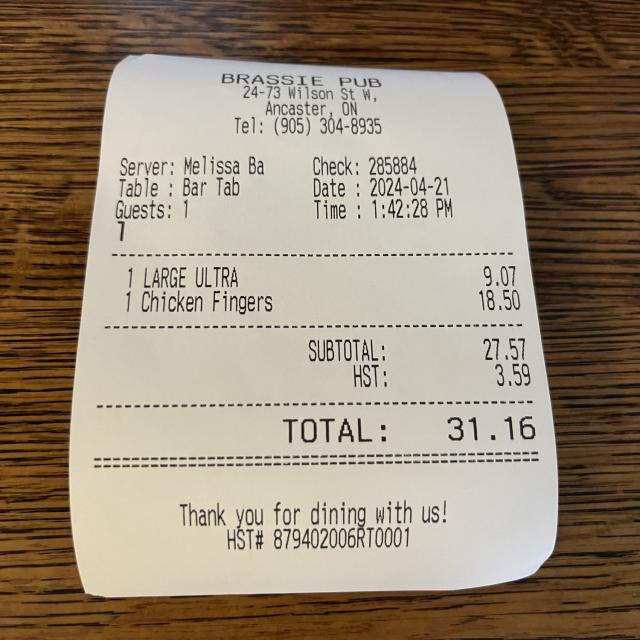item: (138, 286, 529, 321), (137, 258, 526, 291)
store_name: (211, 65, 391, 91)
total_amount: (269, 406, 542, 454)
transaction_date: (360, 172, 462, 200)
